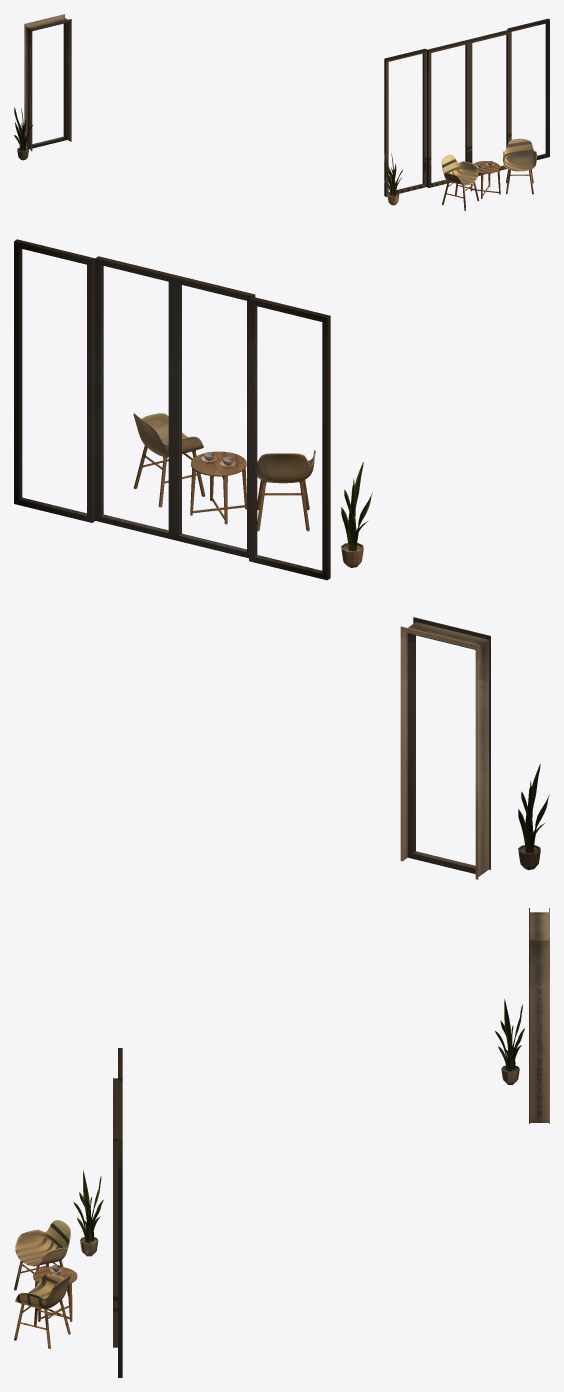
File: Balcony.FBX
3 renders of one model, top to bottom at view 1: azimuth 30°, elevation 25°; view 2: azimuth 150°, elevation 25°; view 3: azimuth 270°, elevation 25°, orthographic. The views are drawn at different scales.
Parts seen in each view (by area): view 1: Balcony01_Door01, Balcony02_Doorframe01, Balcony01_Door02, Balcony01_Door03, Balcony01_Chair02, Balcony01_Chair01, Balcony02_Door, Balcony01_Flower01, Balcony02_Flower01, Balcony01_Table; view 2: Balcony01_Door01, Balcony02_Doorframe01, Balcony01_Door03, Balcony01_Door02, Balcony02_Door, Balcony01_Chair01, Balcony01_Chair02, Balcony01_Table, Balcony02_Flower01, Balcony01_Flower01; view 3: Balcony02_Doorframe01, Balcony01_Chair01, Balcony01_Chair02, Balcony01_Door01, Balcony01_Door03, Balcony02_Flower01, Balcony01_Flower01, Balcony02_Door, Balcony01_Table.
Part boxes in pixels (left/top/right/bottom): Balcony01_Door01: left=384, top=18, right=549, bottom=196; Balcony02_Doorframe01: left=24, top=14, right=71, bottom=151; Balcony01_Door02: left=427, top=40, right=469, bottom=187; Balcony01_Door03: left=468, top=30, right=510, bottom=175; Balcony01_Chair02: left=503, top=138, right=536, bottom=194; Balcony01_Chair01: left=441, top=155, right=479, bottom=210; Balcony02_Door: left=28, top=22, right=67, bottom=148; Balcony01_Flower01: left=384, top=153, right=402, bottom=205; Balcony02_Flower01: left=14, top=107, right=32, bottom=160; Balcony01_Table: left=470, top=161, right=500, bottom=198; Balcony01_Door01: left=14, top=239, right=330, bottom=580; Balcony02_Doorframe01: left=400, top=617, right=490, bottom=879; Balcony01_Door03: left=95, top=256, right=176, bottom=539; Balcony01_Door02: left=173, top=275, right=255, bottom=558; Balcony02_Door: left=407, top=633, right=483, bottom=873; Balcony01_Chair01: left=257, top=450, right=315, bottom=531; Balcony01_Chair02: left=133, top=413, right=205, bottom=507; Balcony01_Table: left=190, top=451, right=246, bottom=524; Balcony02_Flower01: left=518, top=764, right=549, bottom=870; Balcony01_Flower01: left=341, top=462, right=372, bottom=567; Balcony02_Doorframe01: left=529, top=908, right=549, bottom=1123; Balcony01_Chair01: left=14, top=1220, right=70, bottom=1295; Balcony01_Chair02: left=14, top=1274, right=70, bottom=1348; Balcony01_Door01: left=118, top=1048, right=122, bottom=1377; Balcony01_Door03: left=113, top=1108, right=117, bottom=1347; Balcony02_Flower01: left=495, top=999, right=524, bottom=1084; Balcony01_Flower01: left=73, top=1170, right=103, bottom=1256; Balcony02_Door: left=537, top=940, right=541, bottom=1122; Balcony01_Table: left=33, top=1266, right=77, bottom=1321.
Bounding box in the file's own units: 7406 × 5593 × 2400.
